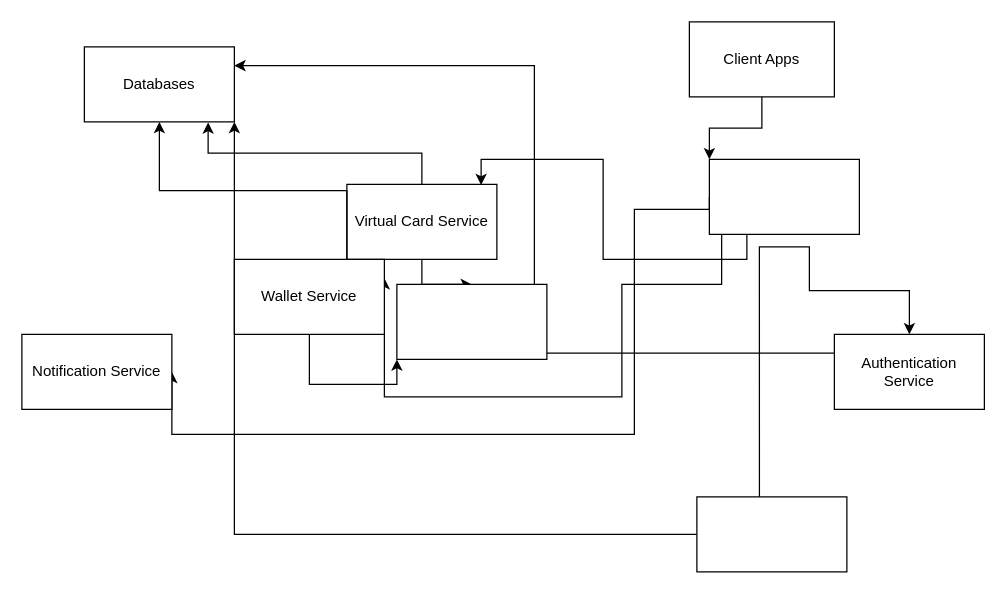
This 1006x594 diagram has some shape labels left out. Here are the shapes that lost their labels. From the top down, the centre of each, then its label:
At pixel 783 196: "API Gateway".
At pixel 471 321: "Third party API".
At pixel 771 534: "Transaction Service".
